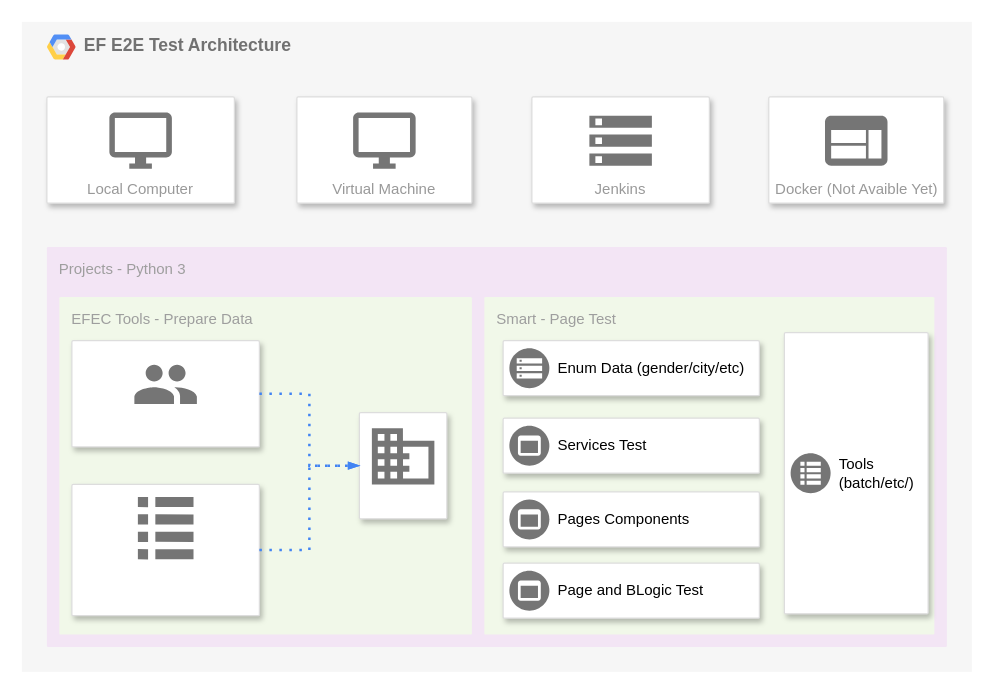
This 993x693 diagram has some shape labels left out. Here are the shapes that lost their labels. From the top down, the centre of each, then its label:
the point at 166,395: Users (cool/mini/socn/etc)
the point at 403,467: Database
the point at 166,551: Data (ccl/scheduled class/etc)
